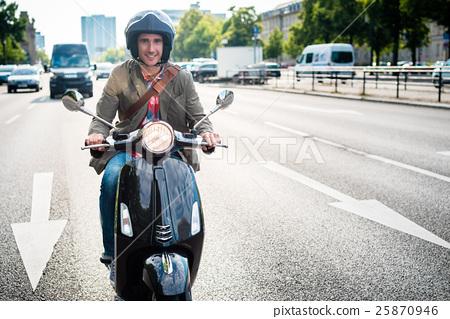helmet: (126, 9, 179, 66)
